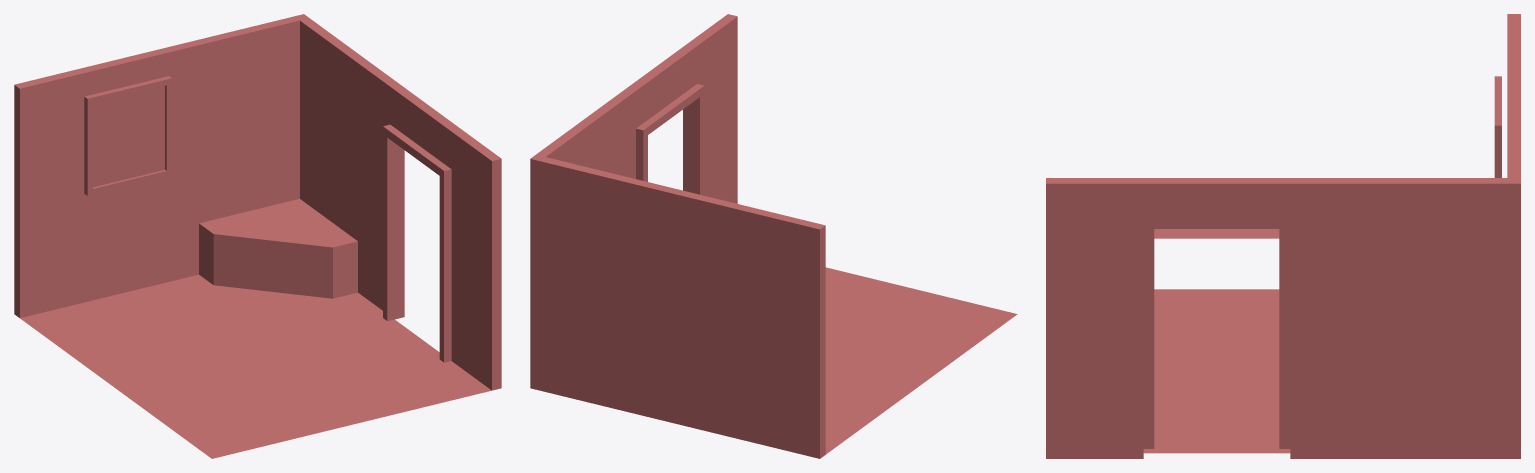
Rendered from Bedroom_Walls.fbx.
3 views of the same model, side by side, from view 1: azimuth 30°, elevation 25°; view 2: azimuth 150°, elevation 25°; view 3: azimuth 270°, elevation 25° (orthographic). The views are drawn at different scales.
Visible parts, largest first — view 1: polySurface13, polySurface16, polySurface15, polySurface14; view 2: polySurface13, polySurface14; view 3: polySurface13, polySurface14, polySurface15.
Part boxes in pixels (left/top/right/bottom): polySurface13: left=14, top=14, right=501, bottom=458; polySurface16: left=199, top=199, right=357, bottom=298; polySurface15: left=84, top=76, right=172, bottom=195; polySurface14: left=383, top=124, right=451, bottom=362; polySurface13: left=530, top=14, right=1017, bottom=458; polySurface14: left=636, top=84, right=704, bottom=195; polySurface13: left=1046, top=14, right=1520, bottom=458; polySurface14: left=1143, top=229, right=1290, bottom=448; polySurface15: left=1494, top=76, right=1501, bottom=177.
Size of the model in its own units: 29.6 by 22.4 by 35.
